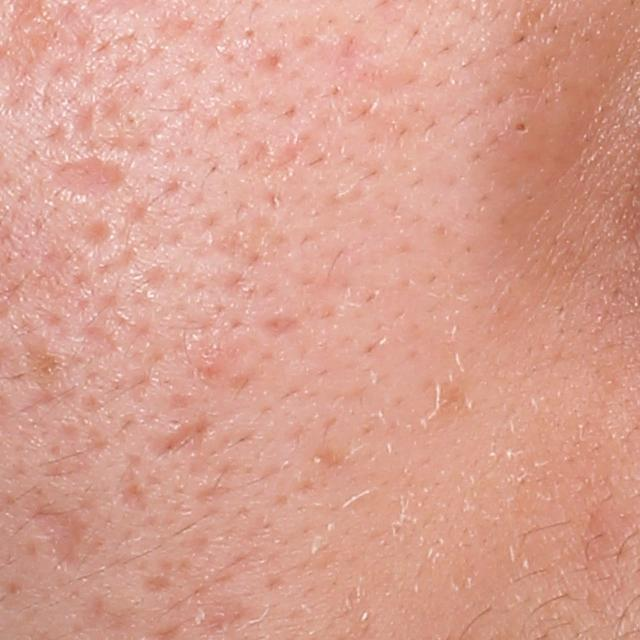atrophic_scar: (29, 508, 92, 574), (51, 156, 127, 200), (155, 411, 208, 459), (118, 477, 158, 514), (80, 216, 115, 248), (262, 317, 307, 340), (141, 571, 172, 599), (71, 101, 93, 139)
comedo: (506, 117, 526, 137)
